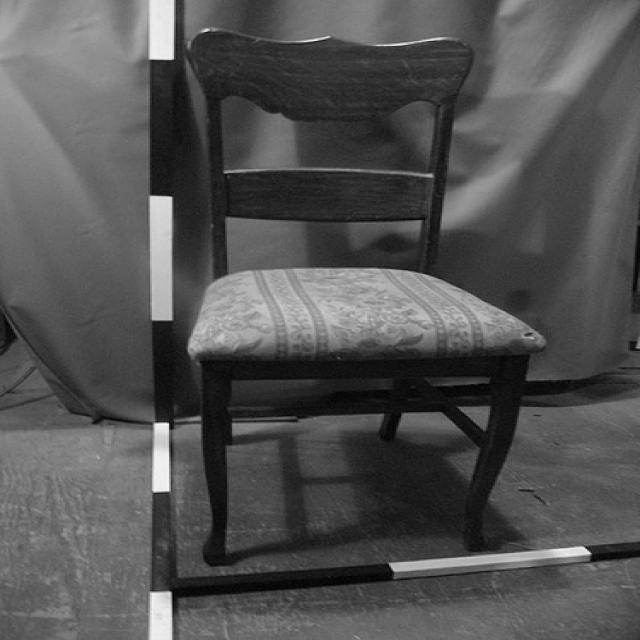chair: (172, 27, 547, 564)
